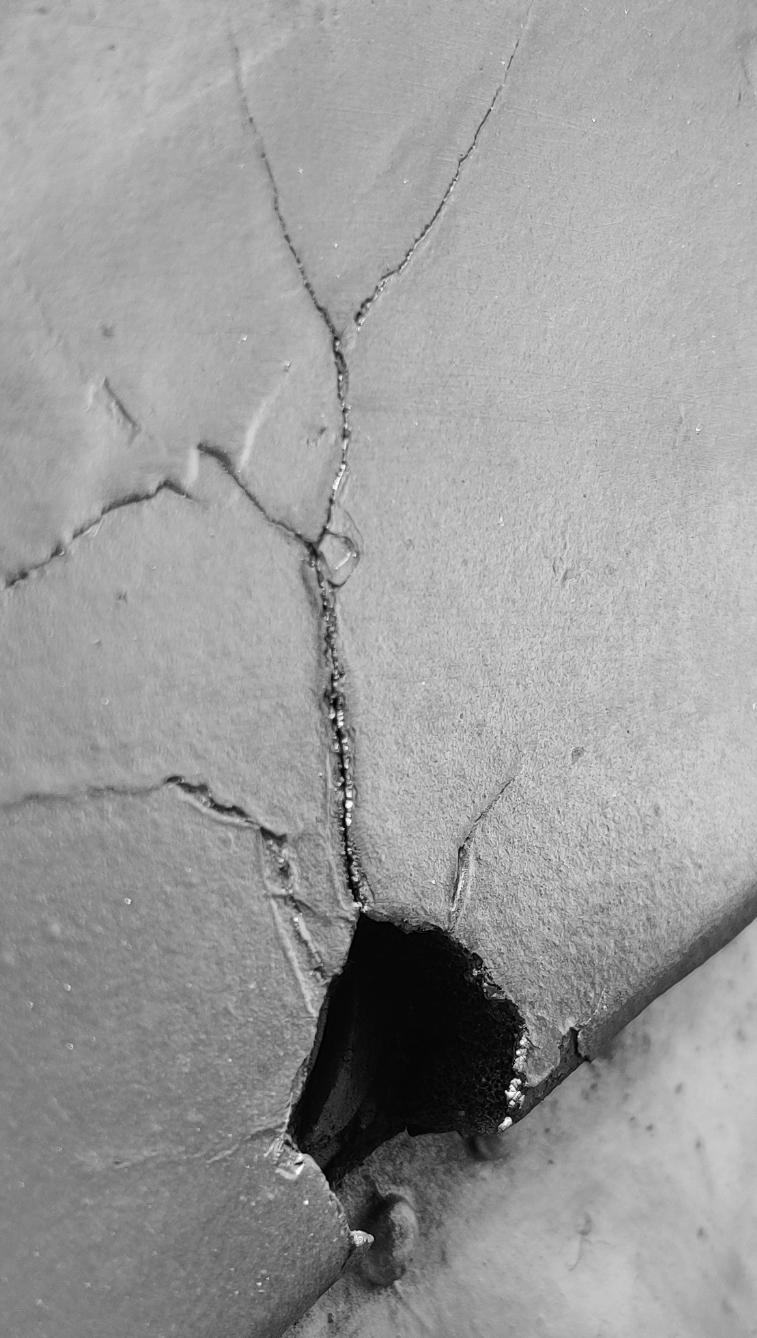crack: (0, 1, 757, 1338)
